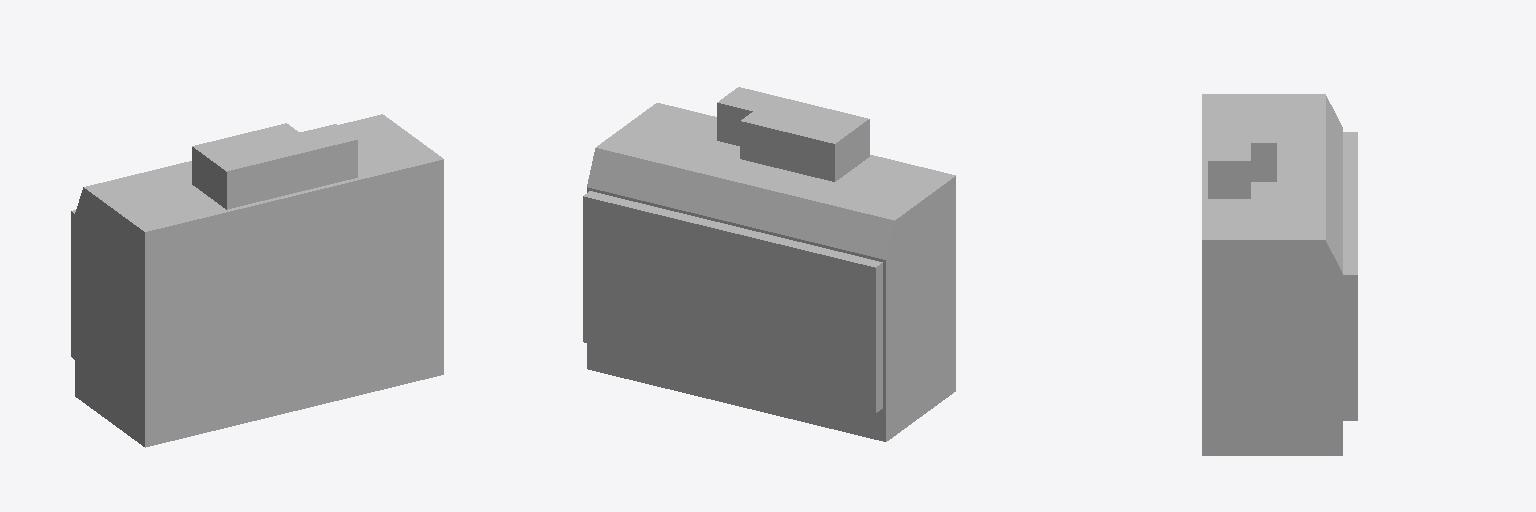
The model's file is ShortWideCollider.obj.
3 renders of one model, left to right at view 1: azimuth 30°, elevation 25°; view 2: azimuth 150°, elevation 25°; view 3: azimuth 270°, elevation 25°, orthographic.
Visible parts, largest first — view 1: Box017, Box019, Box020, Box018; view 2: Box017, Box018, Box019, Box020; view 3: Box017, Box018, Box019, Box020.
Part boxes in pixels (x1,y1,x2,y2): Box017: (75, 114, 443, 447); Box019: (192, 123, 320, 209); Box020: (300, 124, 357, 186); Box018: (71, 210, 75, 359); Box017: (587, 103, 955, 441); Box018: (583, 191, 882, 413); Box019: (740, 96, 869, 181); Box020: (717, 87, 773, 145); Box017: (1202, 94, 1342, 455); Box018: (1343, 132, 1357, 420); Box019: (1208, 97, 1276, 181); Box020: (1208, 143, 1250, 198).
Size of the model in its own units: 6.3 by 5.1 by 2.82.